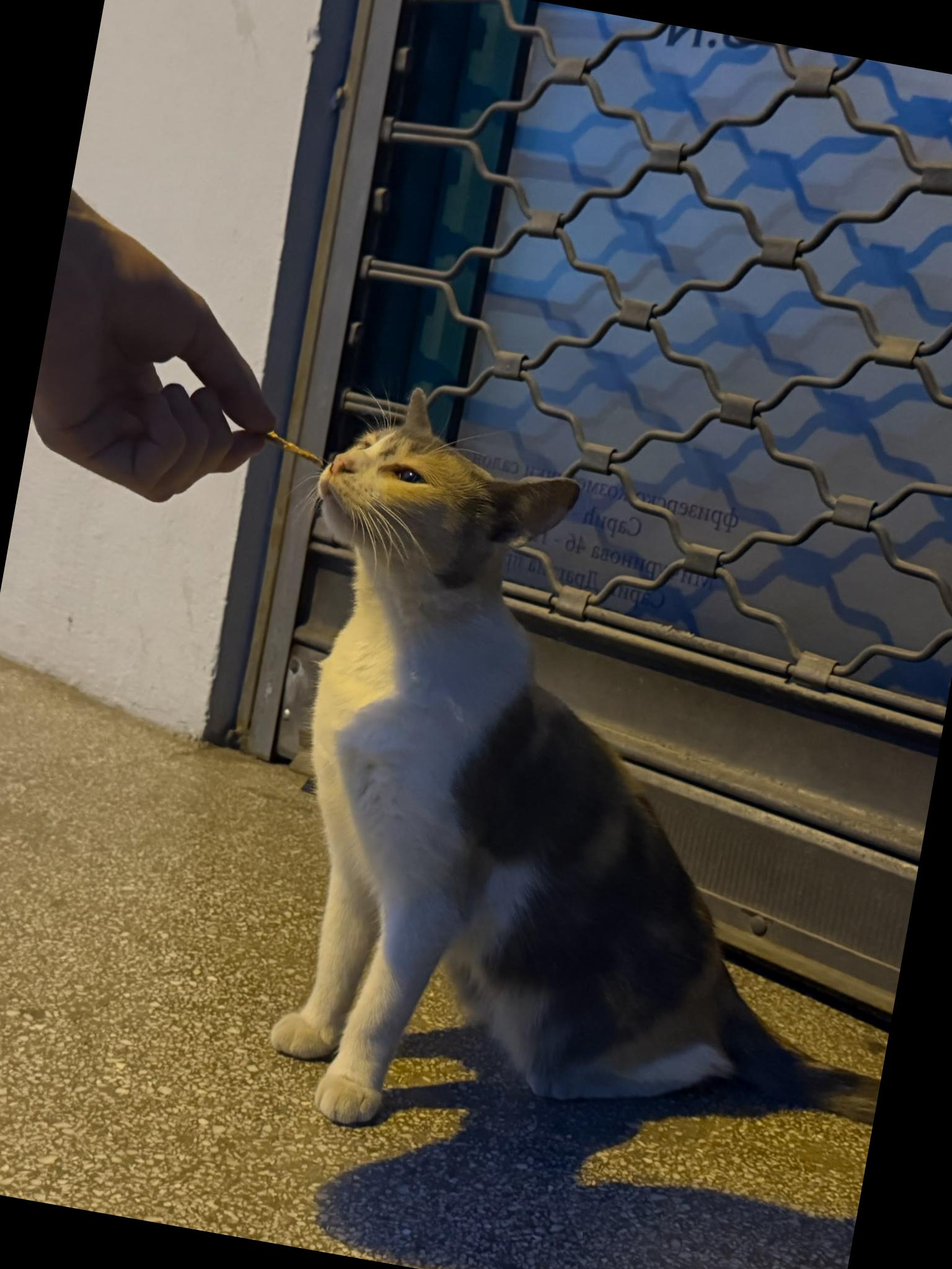macka: (207, 372, 952, 1186)
